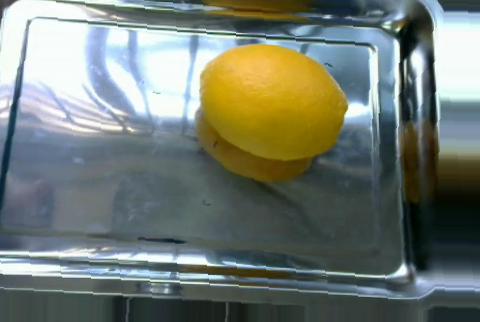Orange: (198, 44, 348, 162)
